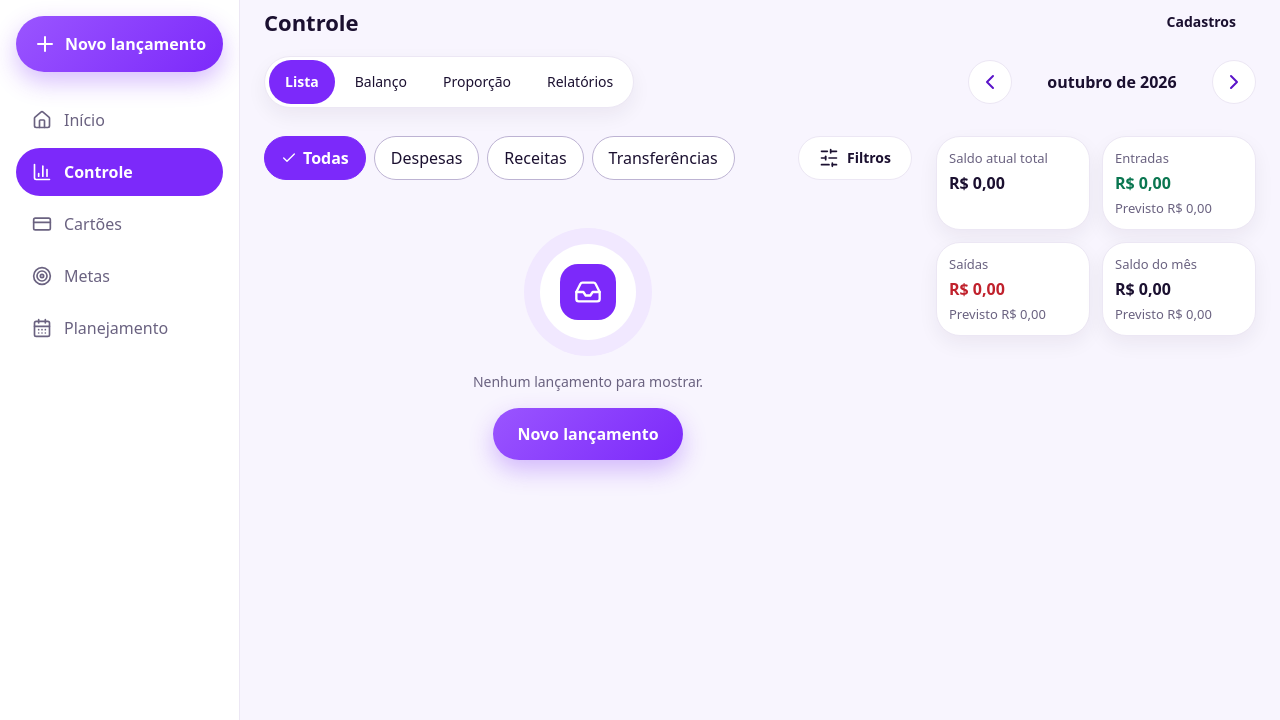
Test: menu "+" (CA-0.02) › abre um menu com exatamente 4 opções
Expected: the heading "Controle" is shown, [264, 7, 358, 37]
Click the 1st button "Novo lançamento".
click(120, 44)  # box [16, 16, 223, 72]
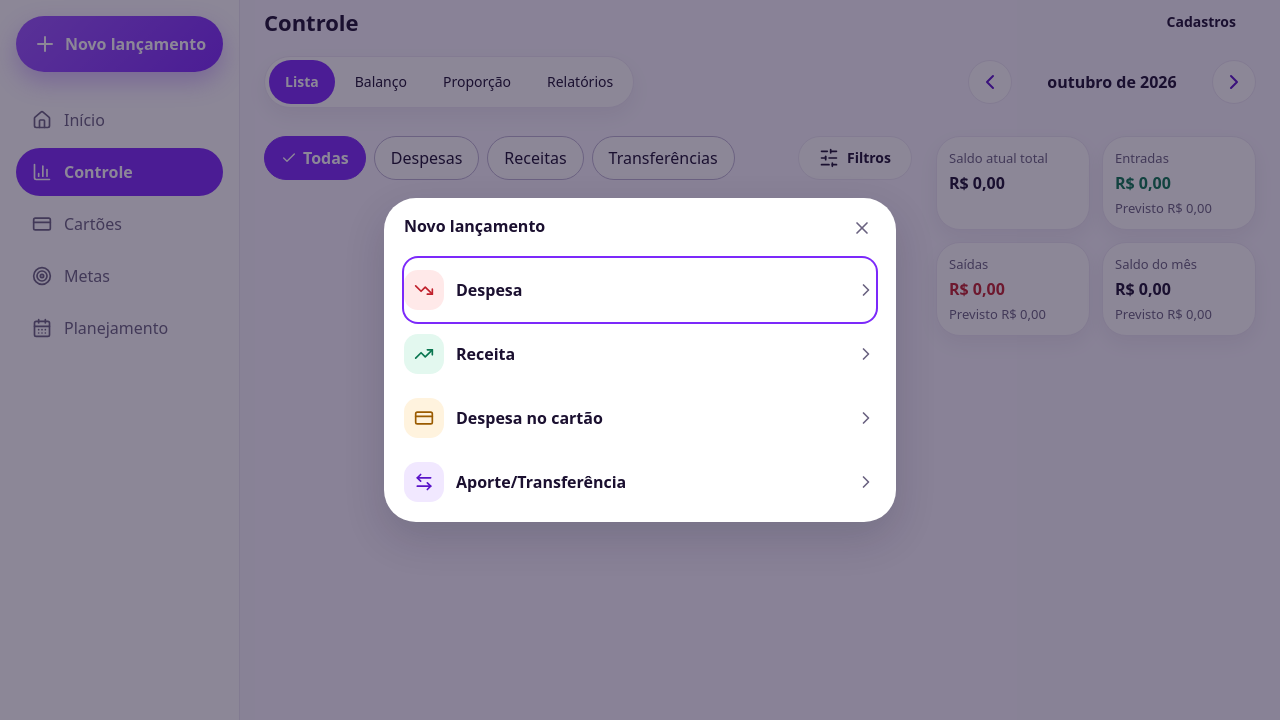
Result: the list items read "Despesa", "Receita", "Despesa no cartão", "Aporte/Transferência", in this order at [404, 258, 876, 322]; [404, 322, 876, 386]; [404, 386, 876, 450]; [404, 450, 876, 514]
